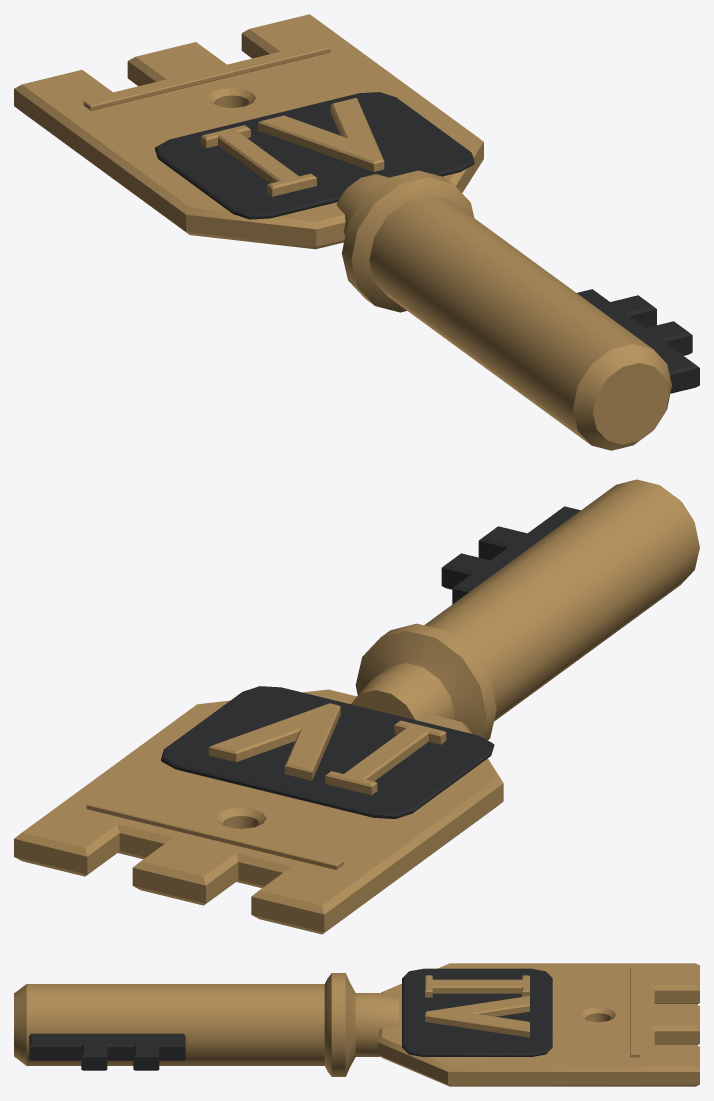
File: tower_key_4.glb
3 renders of one model, top to bottom at view 1: azimuth 30°, elevation 25°; view 2: azimuth 150°, elevation 25°; view 3: azimuth 270°, elevation 25°, orthographic. The views are drawn at different scales.
Parts seen in each view (by area): view 1: tower_key_4, key_bit; view 2: tower_key_4, key_bit; view 3: tower_key_4, key_bit.
Boxes of the visible parts, x1,y1,x2,y2 form: tower_key_4: (14, 14, 671, 450); key_bit: (155, 92, 699, 393); tower_key_4: (14, 479, 699, 934); key_bit: (161, 506, 580, 818); tower_key_4: (14, 963, 699, 1086); key_bit: (29, 968, 552, 1070).
Bounding box in the file's own units: 0.036 × 0.0148 × 0.098.
